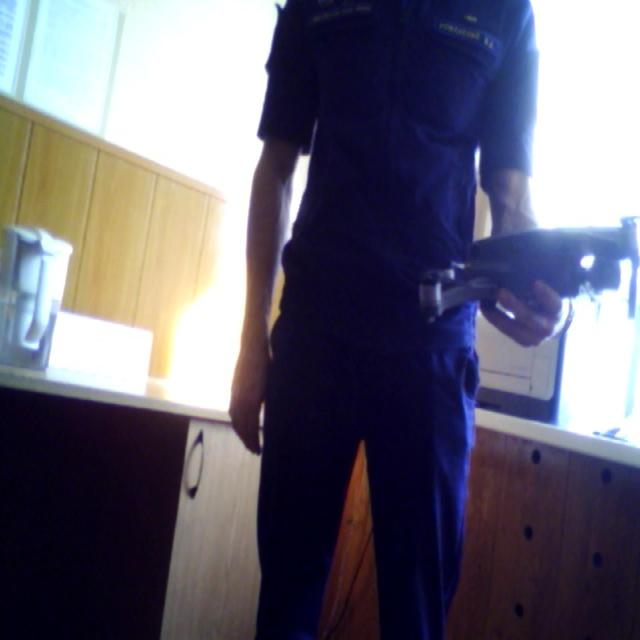drone: (401, 200, 640, 348)
